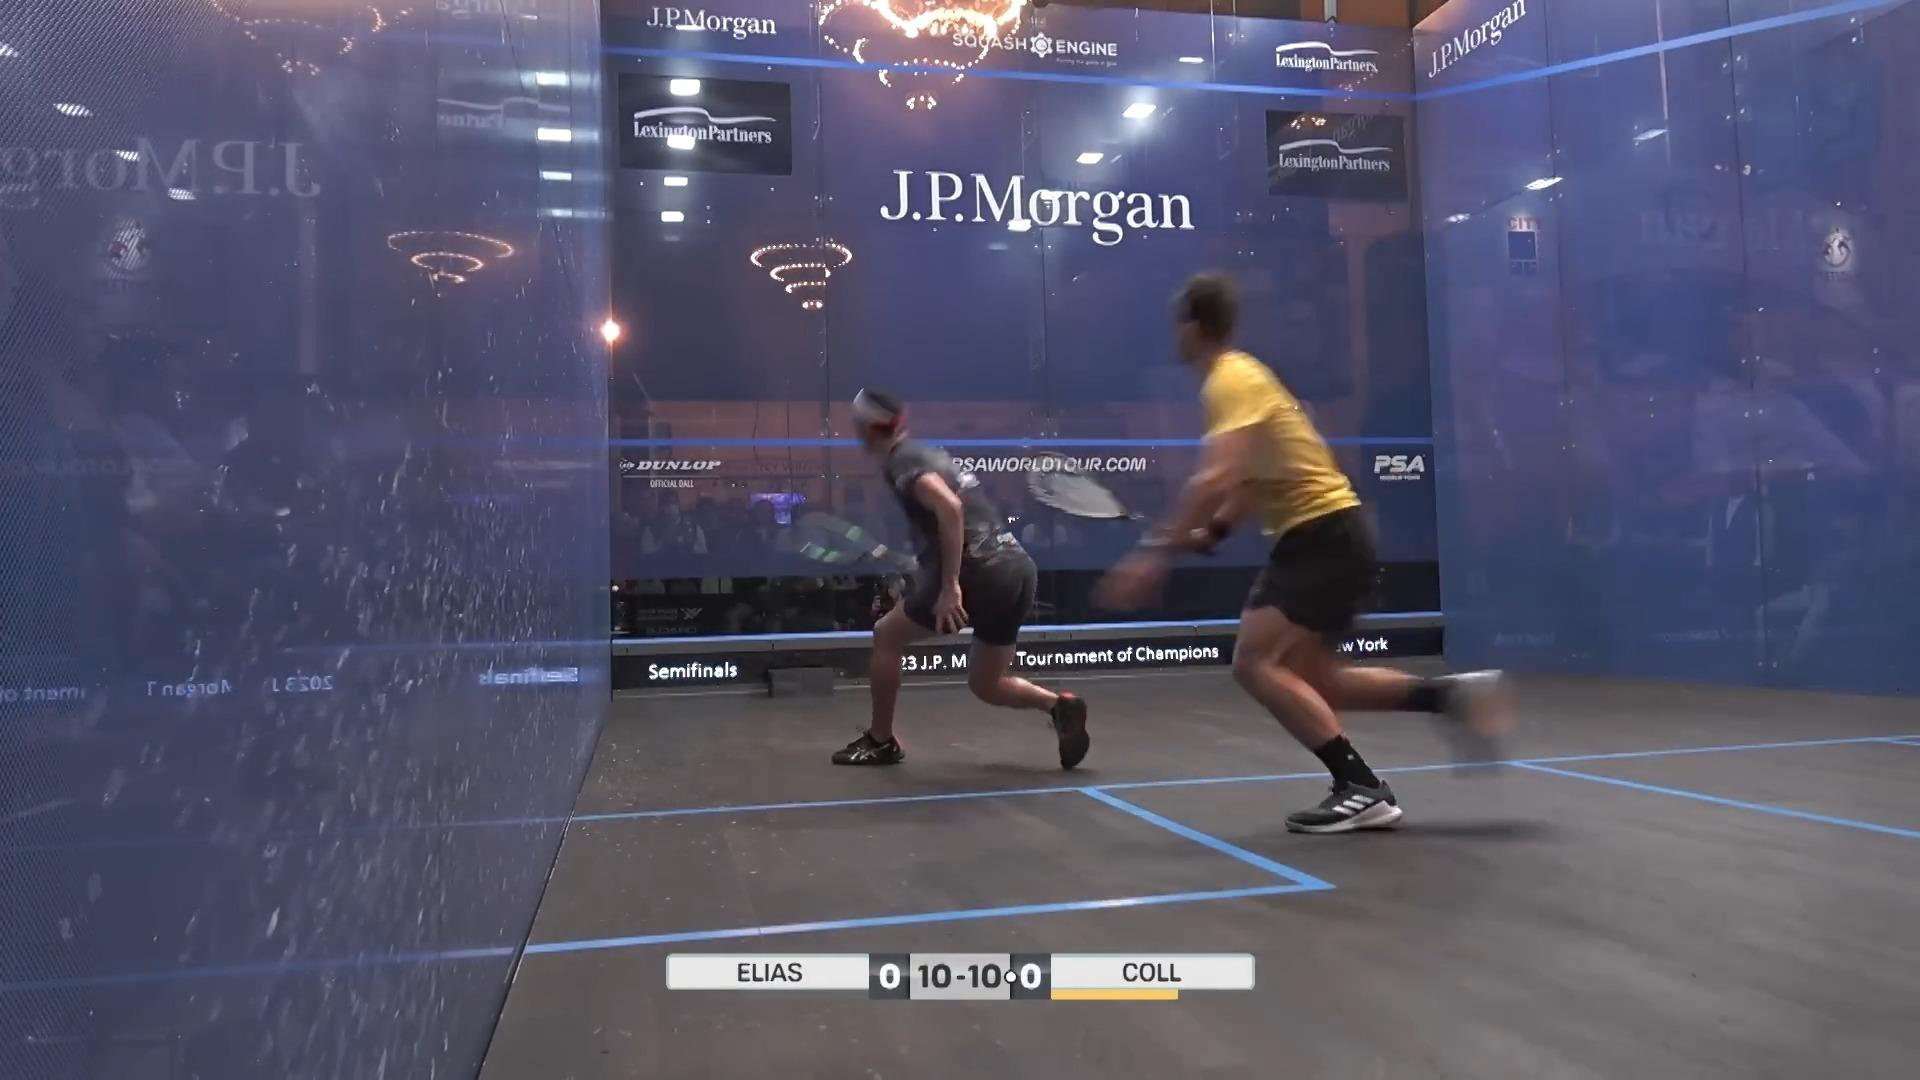Racket: (1009, 448, 1158, 535), (786, 498, 920, 578)
